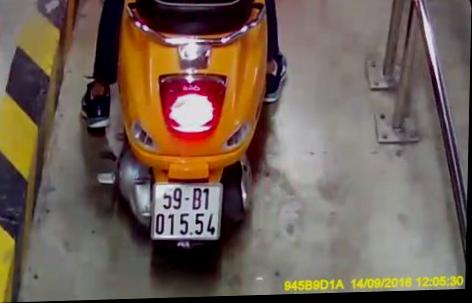License_Plate: (143, 179, 231, 247)
